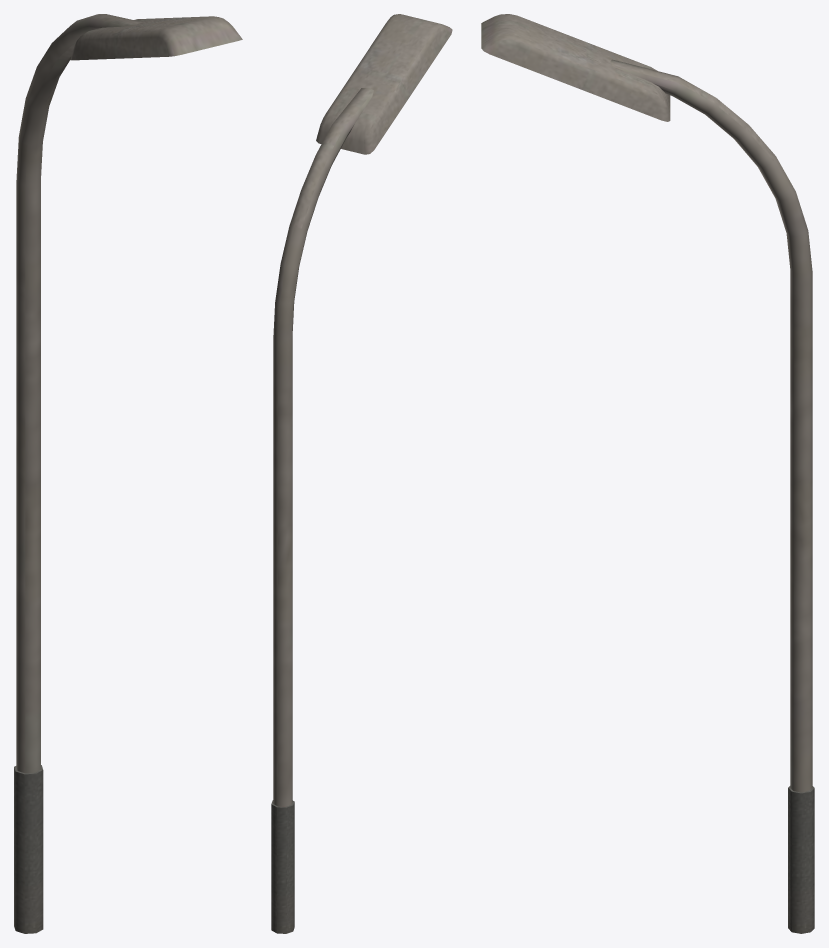
File: lampadaire.glb
3 views of the same model, side by side, from view 1: azimuth 30°, elevation 25°; view 2: azimuth 150°, elevation 25°; view 3: azimuth 270°, elevation 25° (orthographic). The views are drawn at different scales.
Parts seen in each view (by area): view 1: Lamp; view 2: Lamp; view 3: Lamp.
Part boxes in pixels (x1,y1,x2,y2): Lamp: [14, 14, 242, 933]; Lamp: [271, 14, 452, 933]; Lamp: [481, 14, 814, 933].
Size of the model in its own units: 0.2256 by 3.07 by 1.03.
Materials: 2 (1 with a texture image).
